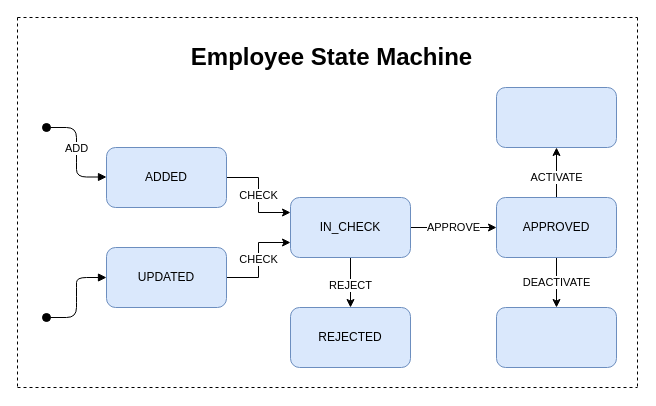
The diagram is 656 pixels wide and 406 high, and some of its shapes have lost their labels. The centre of each missing label's shape, as x and y in pixels:
"ACTIVE" belongs at point (556, 117).
"INACTIVE" belongs at point (556, 337).
